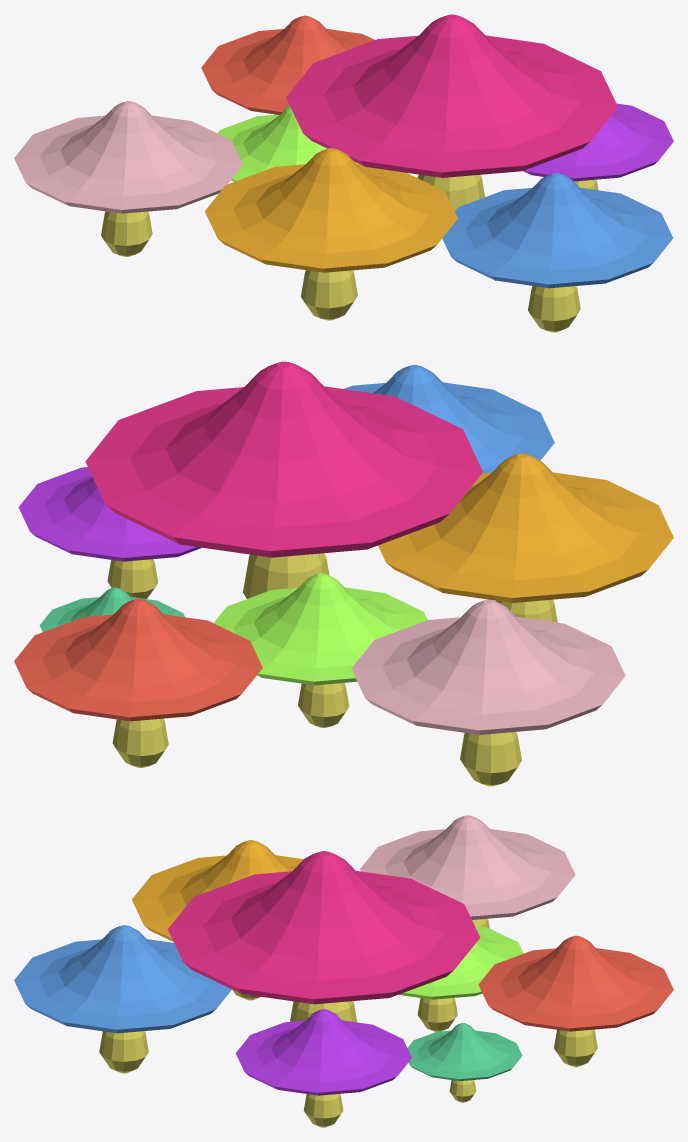
Rendered from fungi 2.fbx.
3 views of the same model, one above another, from view 1: azimuth 30°, elevation 25°; view 2: azimuth 150°, elevation 25°; view 3: azimuth 270°, elevation 25° (orthographic). The views are drawn at different scales.
Visible parts, largest first — view 1: Circle.007; view 2: Circle.007; view 3: Circle.007.
Boxes of the visible parts, <box> form: Circle.007: <box>14,14,673,332</box>; Circle.007: <box>14,361,673,786</box>; Circle.007: <box>14,815,673,1127</box>.
Bounding box in the file's own units: 378 × 153 × 415.
